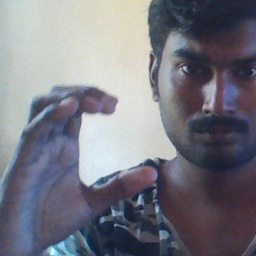C: (17, 81, 159, 212)
